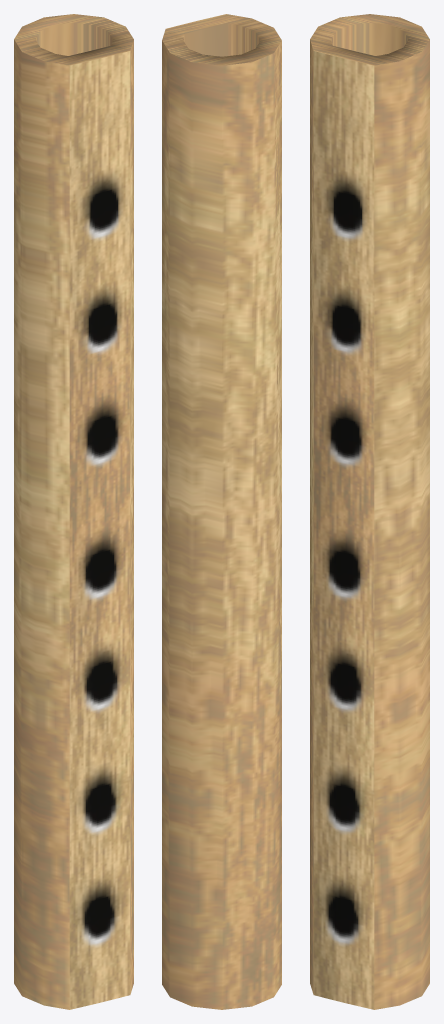
The model's file is Flute.fbx.
3 renders of one model, left to right at view 1: azimuth 30°, elevation 25°; view 2: azimuth 210°, elevation 25°; view 3: azimuth 330°, elevation 25°, orthographic.
Visible parts, largest first — view 1: Flute; view 2: Flute; view 3: Flute.
Part boxes in pixels (x1,y1,x2,y2): Flute: (14,14,133,1009); Flute: (162,14,281,1009); Flute: (310,14,429,1009).
Size of the model in its own units: 43.76 by 380 by 41.03.
2 materials, 2 textured.
